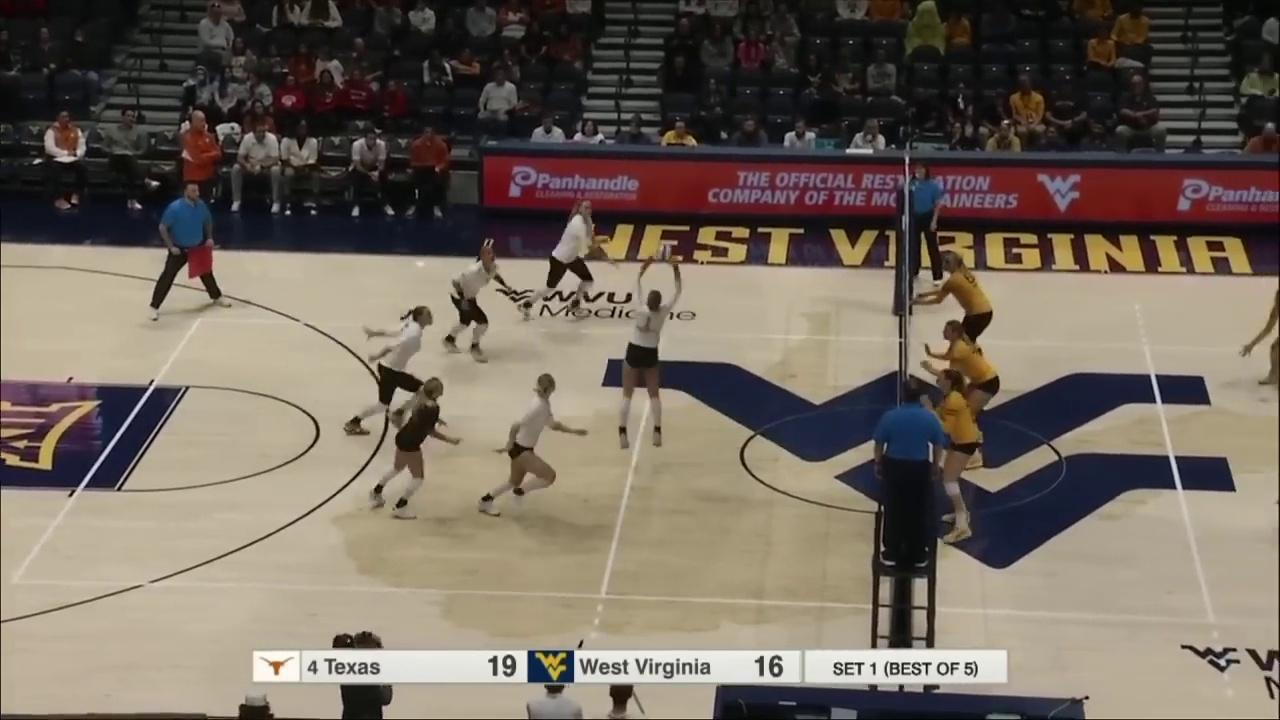player: (480, 373, 590, 519), (343, 305, 436, 436), (368, 379, 457, 515), (617, 256, 676, 443), (929, 319, 1001, 471), (924, 252, 995, 388), (924, 371, 978, 542), (523, 198, 597, 317), (442, 245, 513, 363)
refree: (874, 379, 941, 569), (150, 182, 230, 312), (904, 163, 943, 286)
